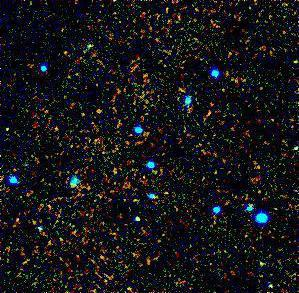star: (106, 152, 136, 182)
